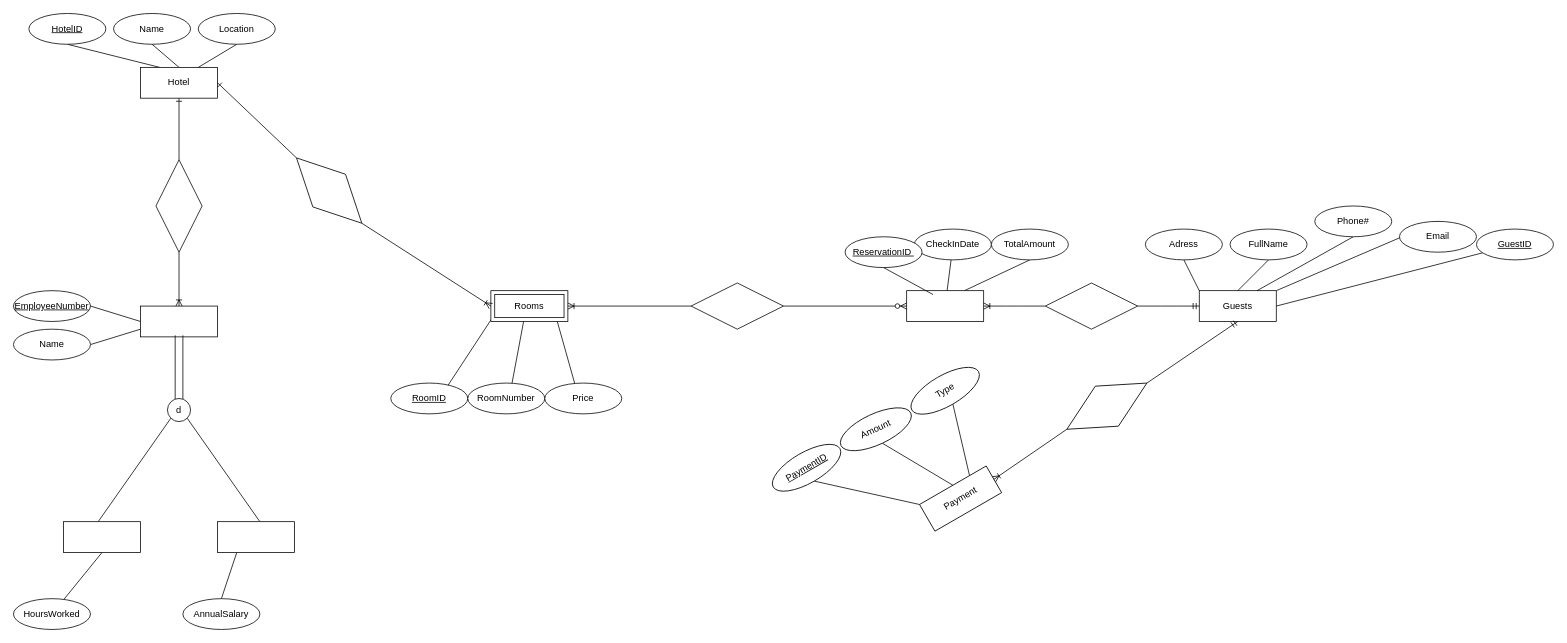
This 1567x643 diagram has some shape labels left out. Each missing label, with the box of its shape:
contains: (279, 141, 378, 240)
Employee: (140, 305, 218, 337)
Hourly Employee: (63, 521, 141, 552)
is reserved by: (690, 282, 783, 329)
makes: (1045, 282, 1138, 329)
pays: (1054, 362, 1159, 449)
Reservation: (906, 290, 984, 321)
Salaried Employee: (217, 521, 295, 552)
works in: (155, 159, 202, 252)
